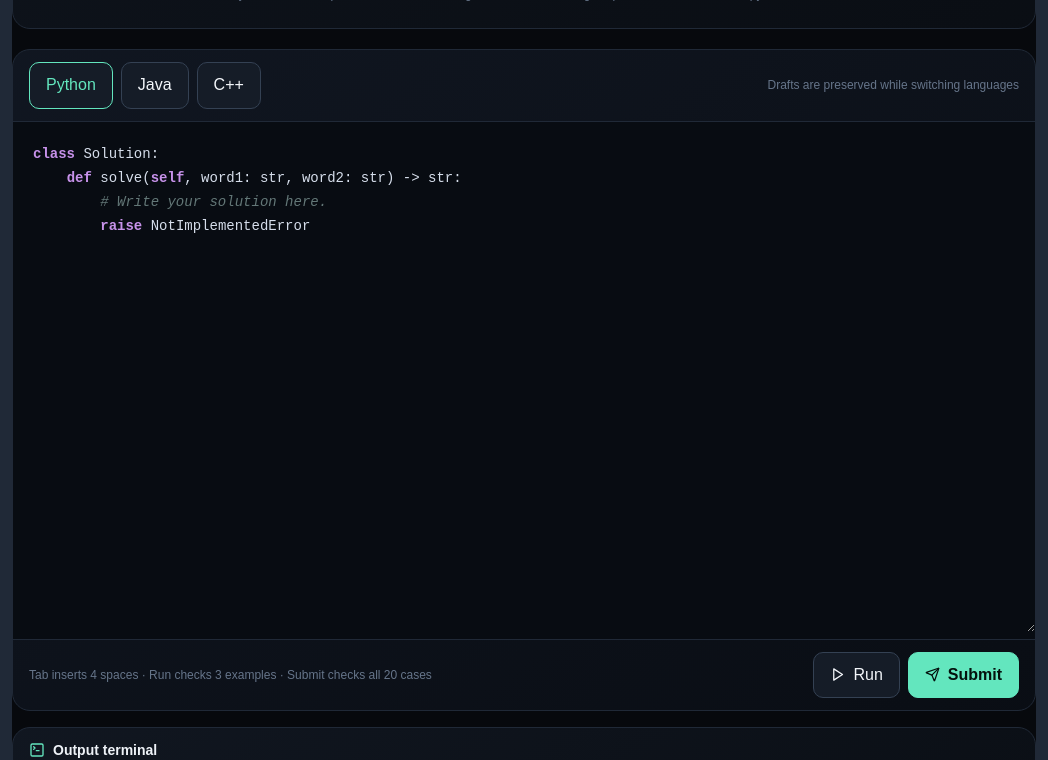
Test: coding challenges › inserts four spaces at the editor selection when Tab is pressed
(page scrolled)
Expected: the text "class" is shown, [33, 146, 75, 162]
Replace the text in the text box named "python solution editor" with "abc". click: coordinates (524, 377)
box: [13, 122, 1035, 632]
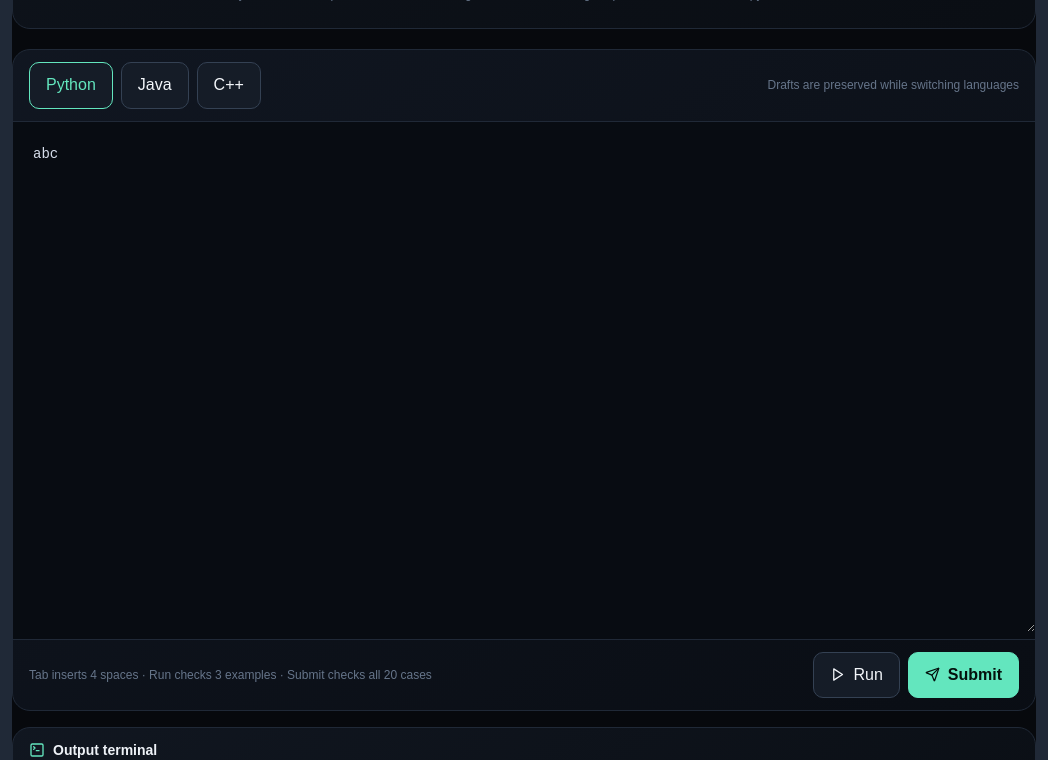
Press Tab in the text box named "python solution editor"
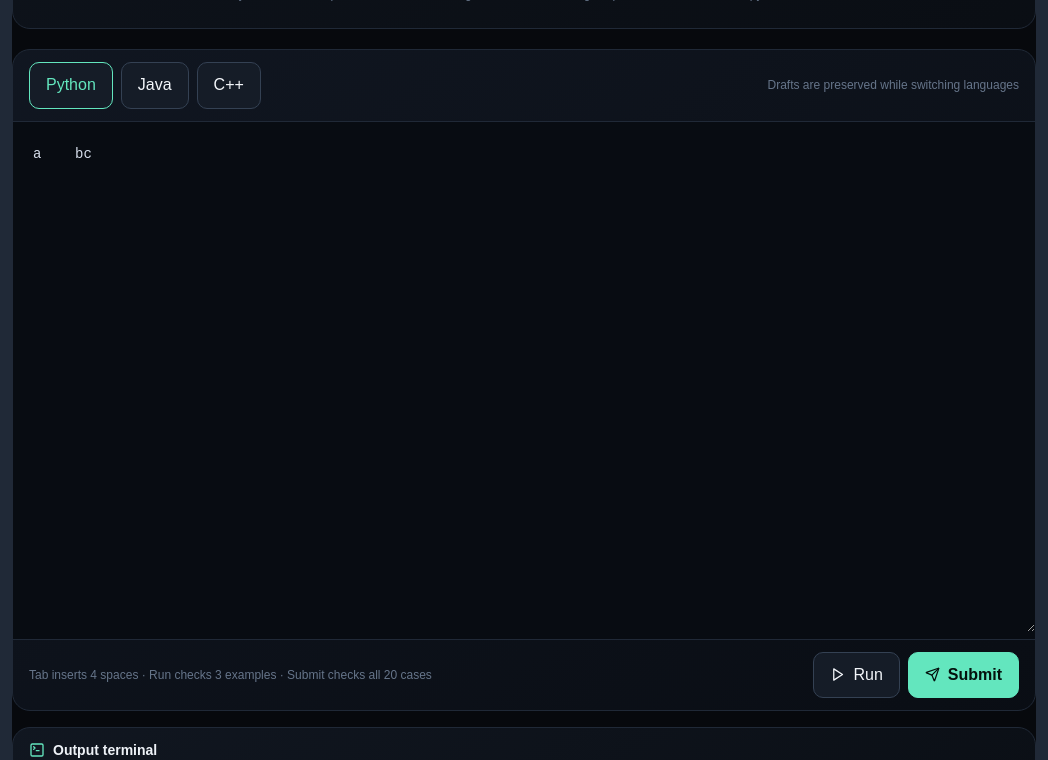
Result: the text box named "python solution editor" holds "a    bc"
